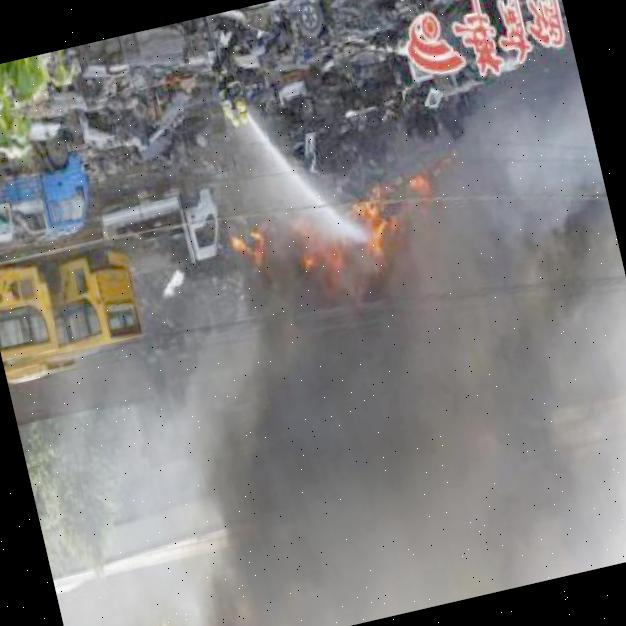fire: (215, 166, 456, 321)
smoke: (65, 241, 626, 626), (422, 64, 615, 269)
